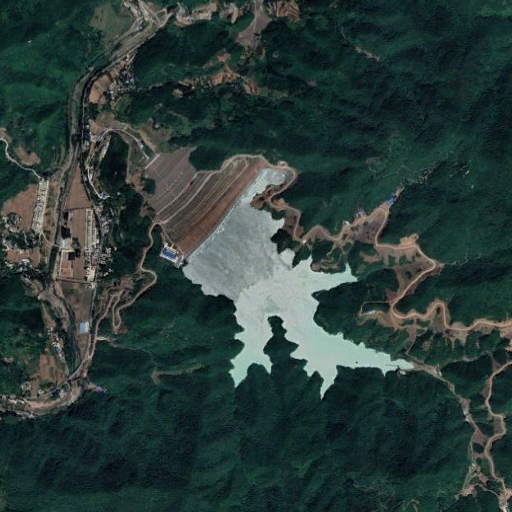tp: (143, 148, 414, 397)
